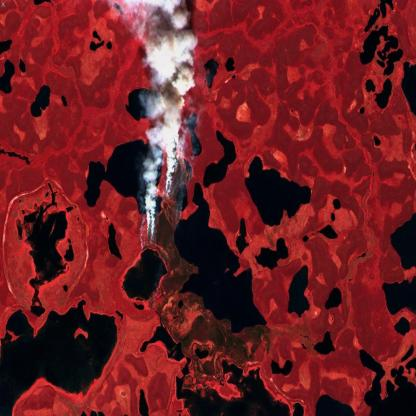fire: (138, 93, 197, 257)
